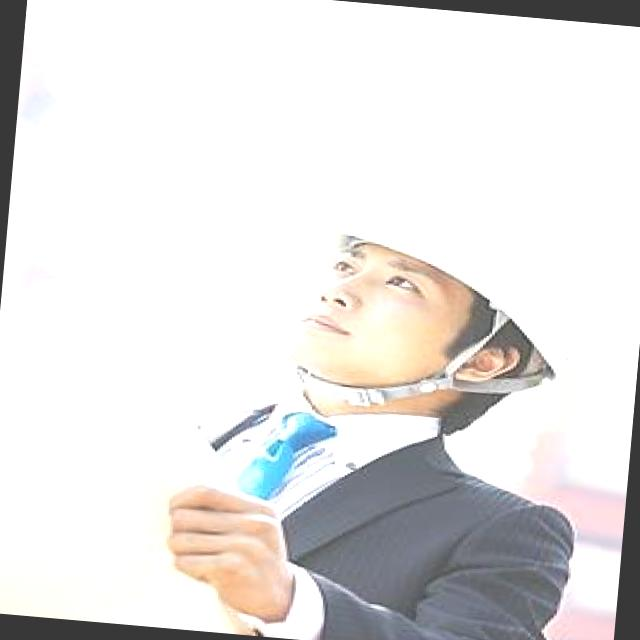helmet: (270, 169, 620, 392)
no-goggles: (286, 234, 501, 316)
no-vest: (190, 383, 602, 640)
